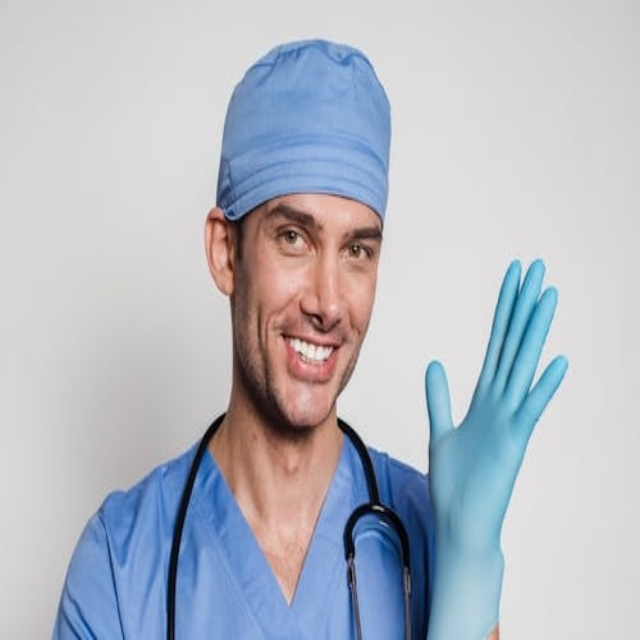Guantes: (419, 257, 567, 640)
Sin_gafas: (262, 200, 378, 282)
Sin_mascara: (262, 315, 349, 413)
